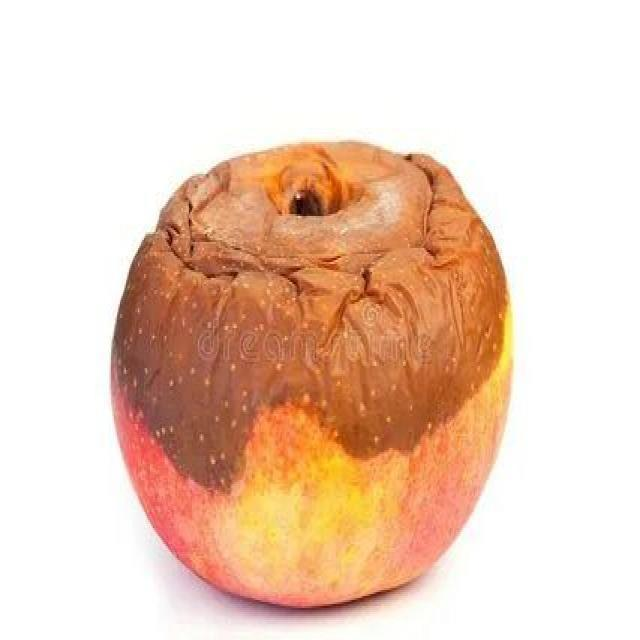Apple: (115, 143, 507, 613)
